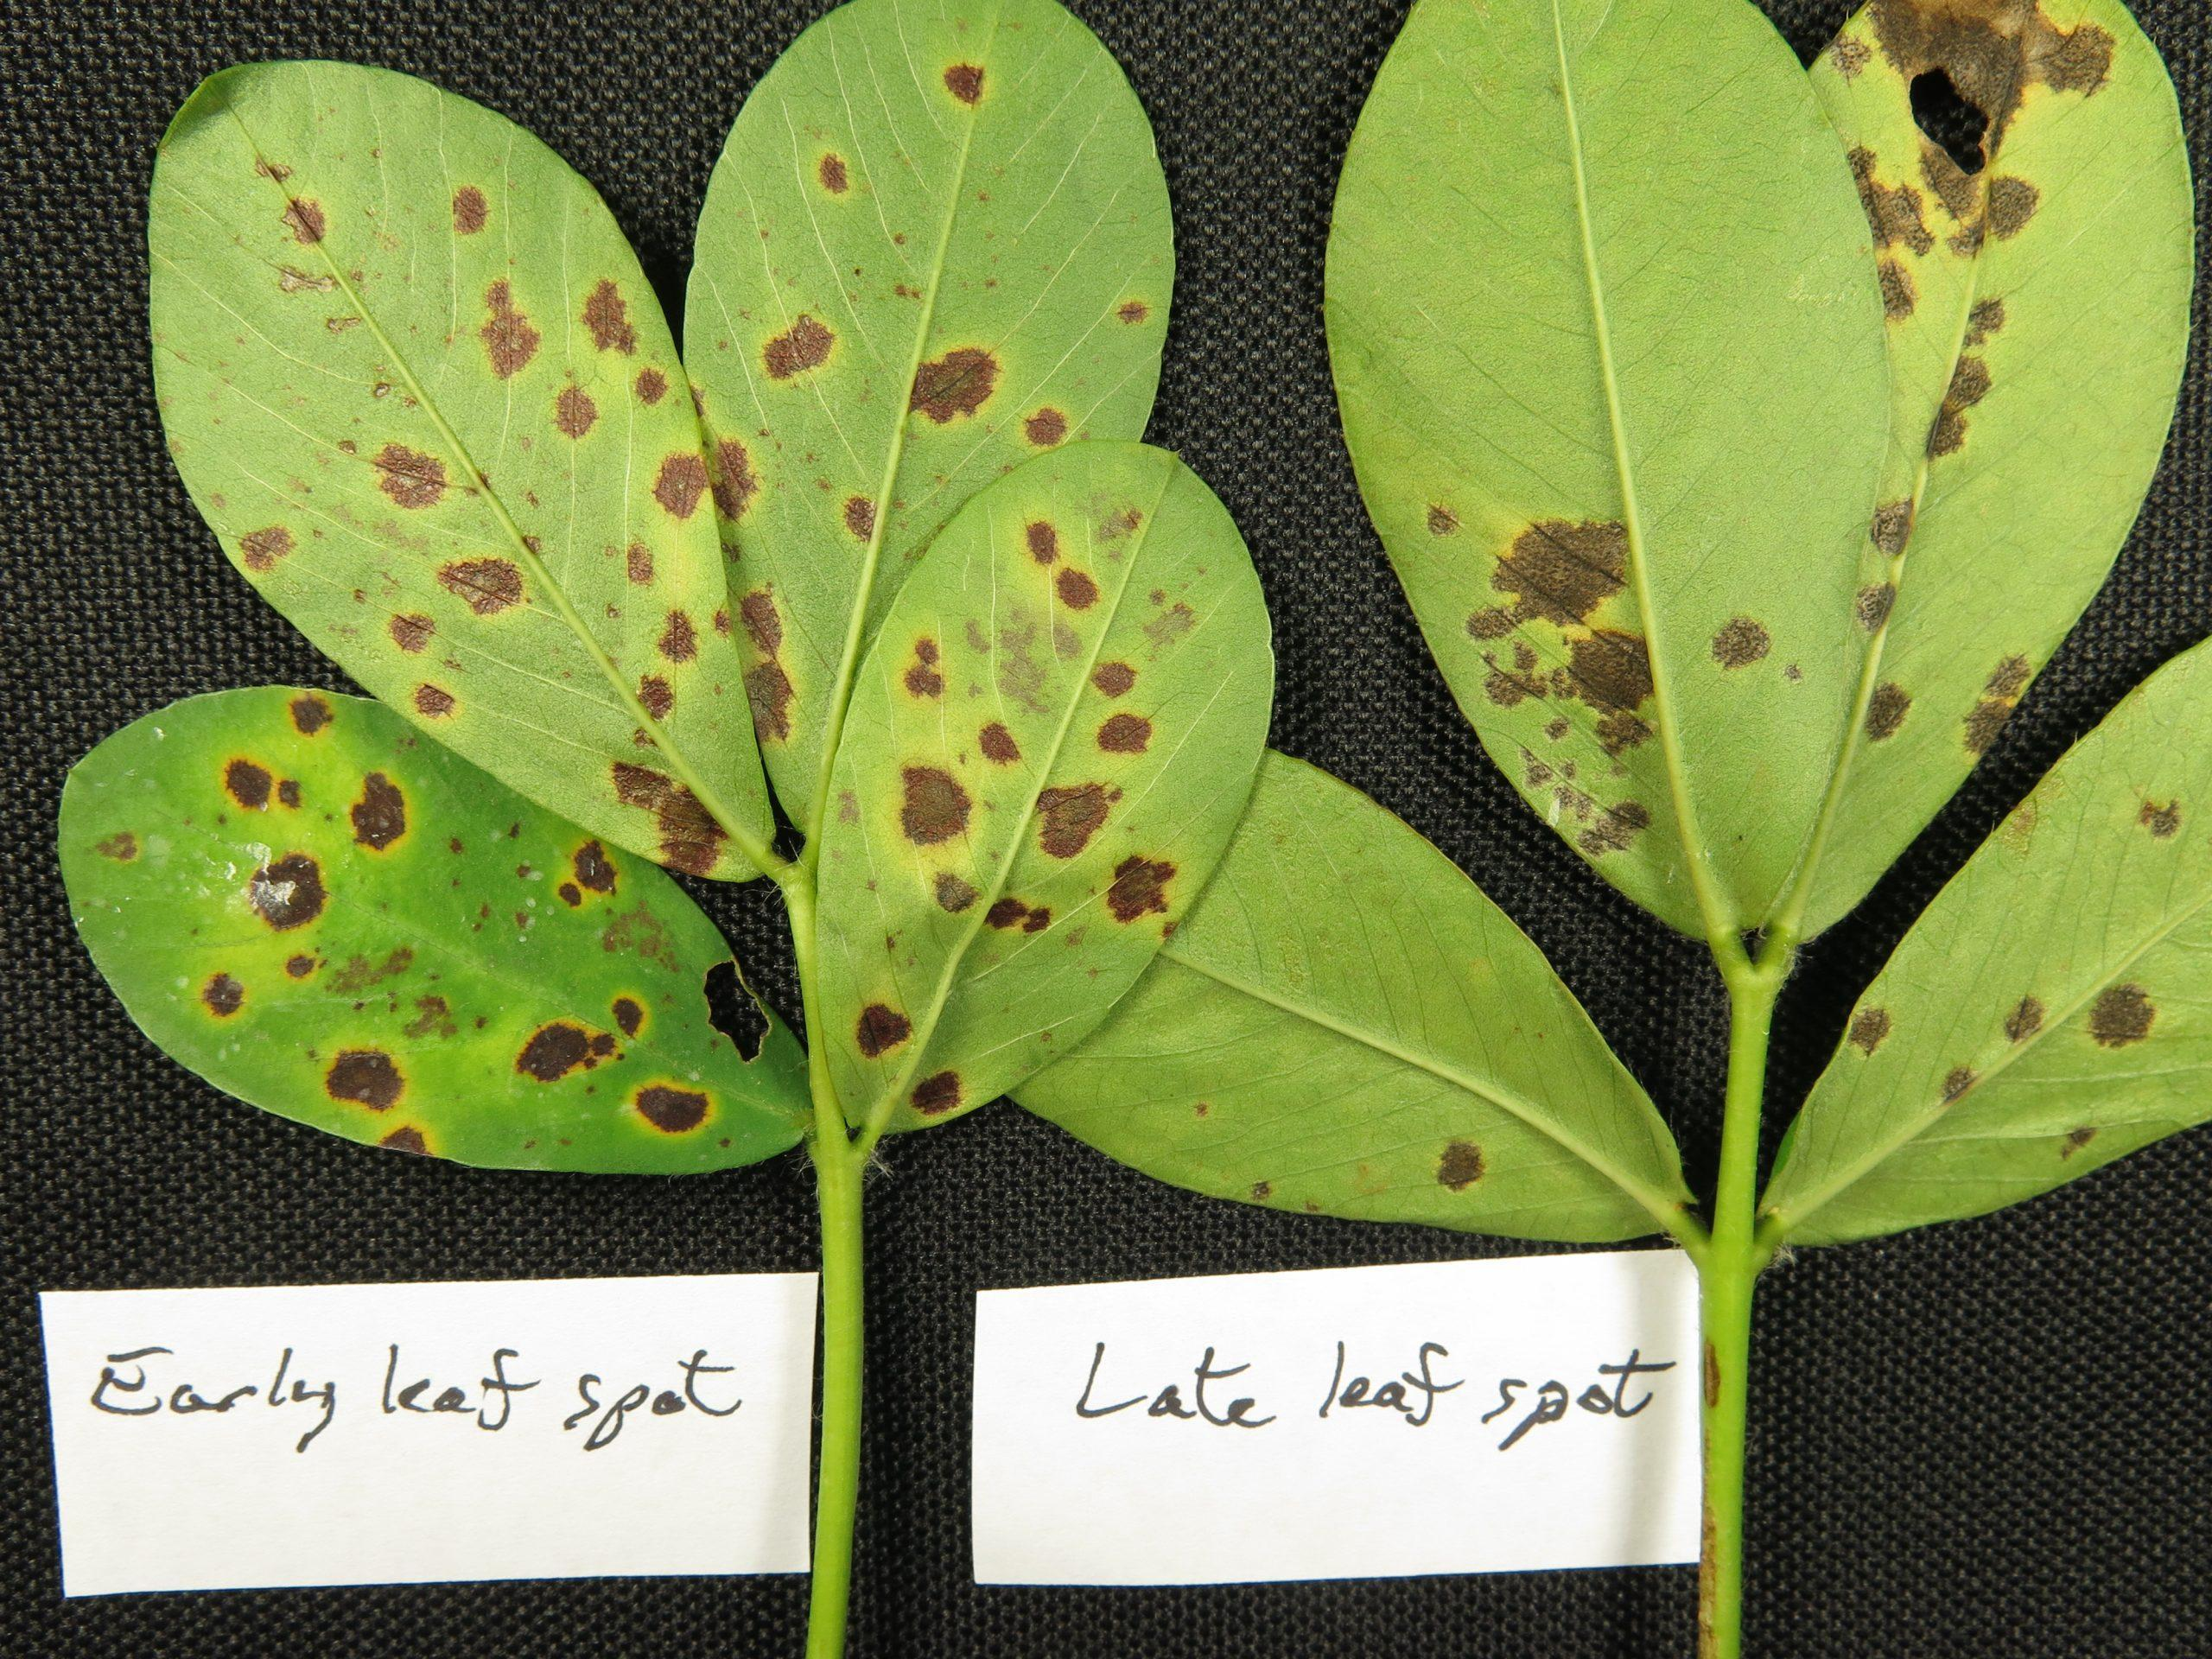black-spot: (902, 586, 1176, 939), (514, 843, 730, 1155)
